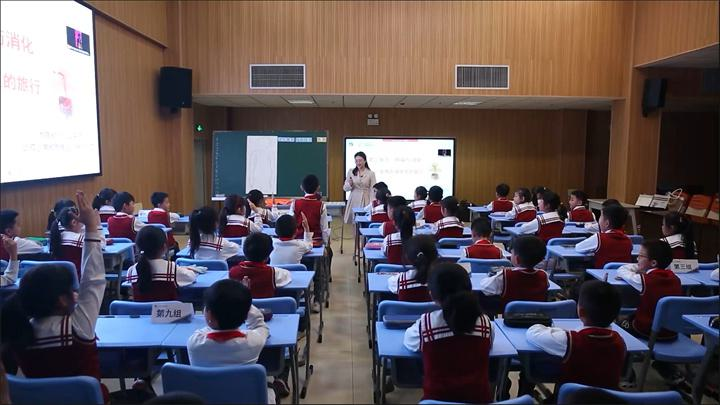hands-up: (28, 192, 108, 358), (259, 214, 316, 272), (217, 193, 276, 236)
listen: (533, 279, 624, 364), (415, 271, 495, 354), (489, 236, 559, 294), (121, 234, 193, 289), (620, 240, 689, 297), (225, 241, 285, 284), (515, 189, 563, 233), (140, 190, 181, 221), (107, 190, 134, 230), (481, 181, 504, 210)
stand: (290, 173, 330, 237)
